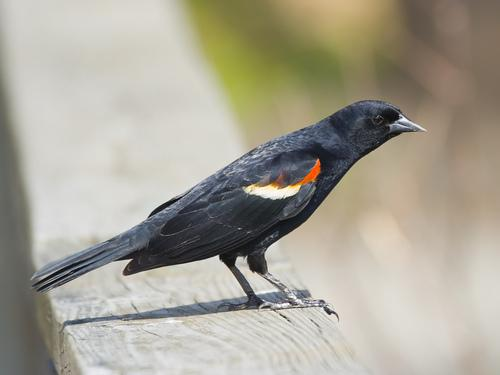010.Red_winged_Blackbird: (29, 98, 427, 323)
